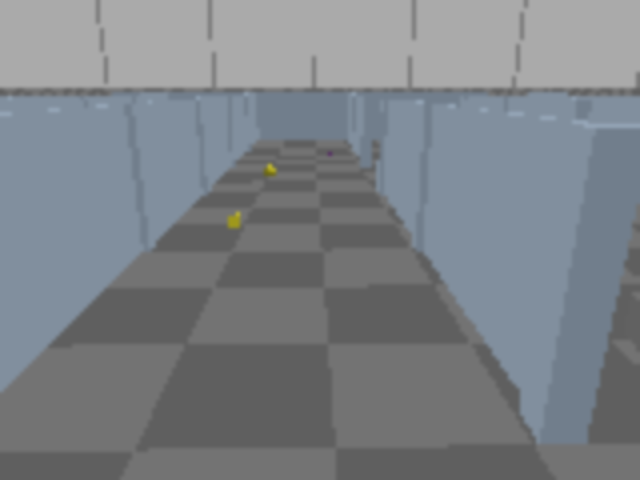obstacle: (622, 293, 638, 378)
